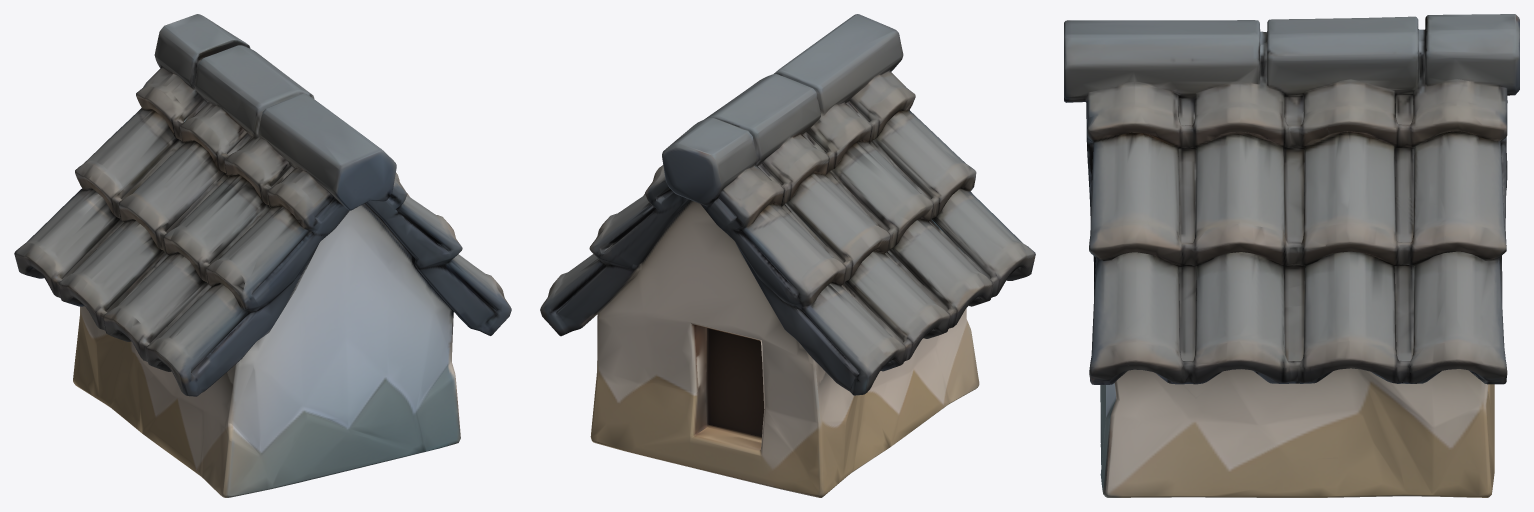
Rendered from slate.fbx.
The picture shows the model from 3 angles, left to right: view 1: azimuth 30°, elevation 25°; view 2: azimuth 150°, elevation 25°; view 3: azimuth 270°, elevation 25°; orthographic projection. The views are drawn at different scales.
Parts seen in each view (by area): view 1: slate; view 2: slate; view 3: slate.
Boxes of the visible parts, x1,y1,x2,y2 form: slate: (14, 14, 511, 497); slate: (540, 14, 1035, 497); slate: (1064, 14, 1519, 497).
Size of the model in its own units: 30.51 by 28.42 by 28.58.
1 material, 1 textured.
